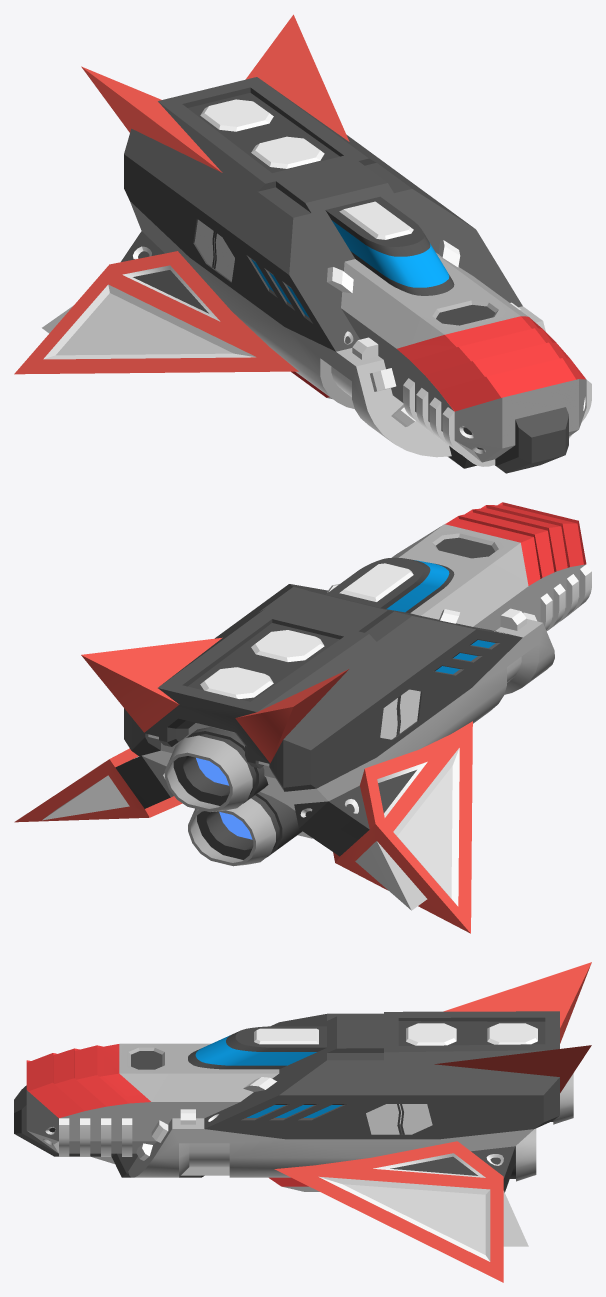
File: Frigate_Mod.fbx
3 views of the same model, one above another, from view 1: azimuth 30°, elevation 25°; view 2: azimuth 150°, elevation 25°; view 3: azimuth 270°, elevation 25° (orthographic). The views are drawn at different scales.
Parts seen in each view (by area): view 1: Mesh_HD; view 2: Mesh_HD; view 3: Mesh_HD.
Part boxes in pixels (<box>): Mesh_HD: <box>14,14,591,473</box>; Mesh_HD: <box>14,502,591,933</box>; Mesh_HD: <box>14,962,591,1282</box>.
Bounding box in the file's own units: 831 × 413 × 1138.
